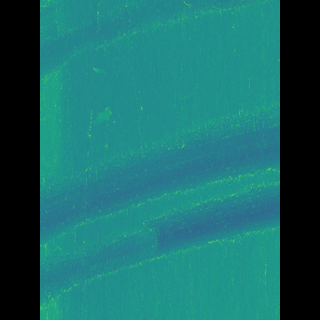Loch: (68, 100, 250, 245), (69, 177, 250, 308), (68, 0, 230, 75)
